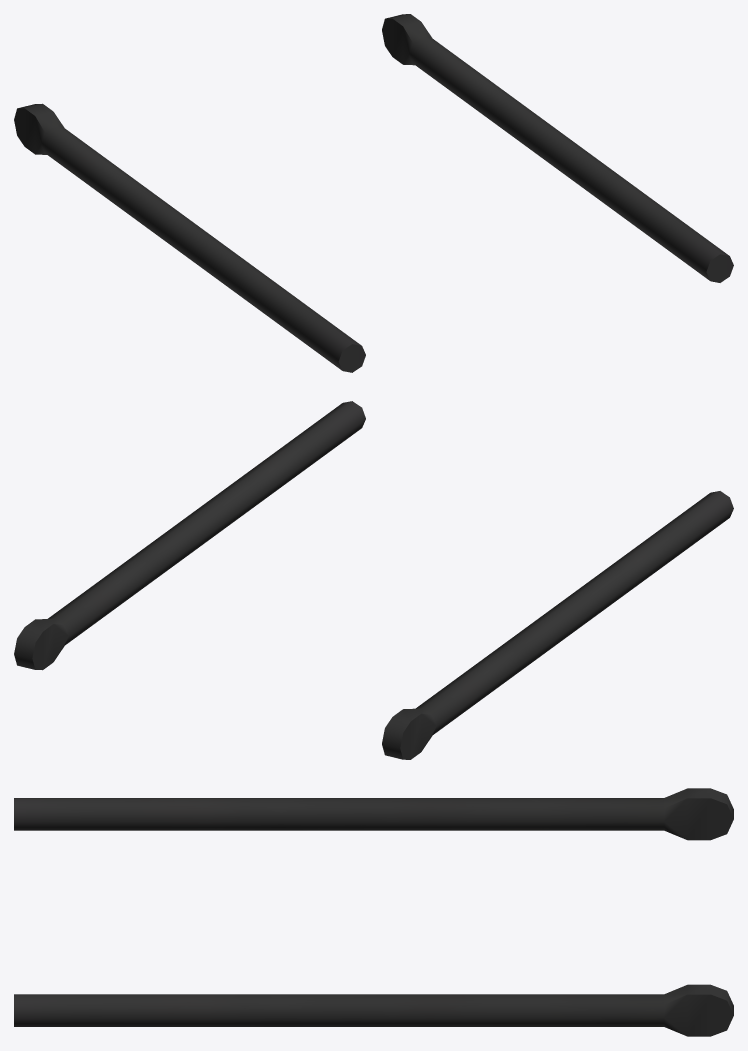
Rendered from carplower.obj.
The picture shows the model from 3 angles, top to bottom: view 1: azimuth 30°, elevation 25°; view 2: azimuth 150°, elevation 25°; view 3: azimuth 270°, elevation 25°; orthographic projection. The views are drawn at different scales.
Visible parts, largest first — view 1: 1; view 2: 1; view 3: 1.
Part boxes in pixels (x1=…): 1: x1=14, y1=14, x2=733, y2=372; 1: x1=14, y1=401, x2=733, y2=759; 1: x1=14, y1=788, x2=733, y2=1036.
Size of the model in its own units: 0.5375 by 0.05 by 0.775.
